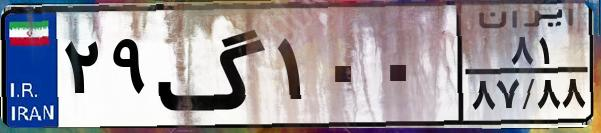0: (385, 28, 445, 110), (330, 28, 385, 110)
1: (270, 28, 330, 110), (537, 27, 568, 80)
2: (57, 26, 110, 100)
7: (495, 70, 520, 125)
8: (560, 70, 590, 125), (508, 27, 537, 80), (470, 70, 495, 125), (535, 70, 560, 125)
9: (110, 28, 156, 98)
گ: (156, 12, 270, 120)
